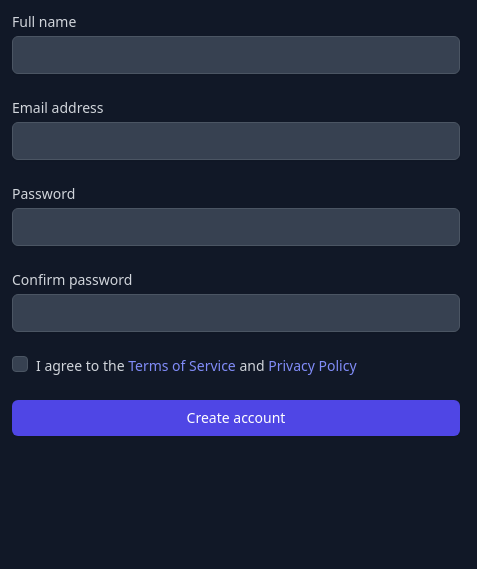
Test: RegisterForm › Form Validation › clears errors when input becomes valid
First trigger errors
Submit the form
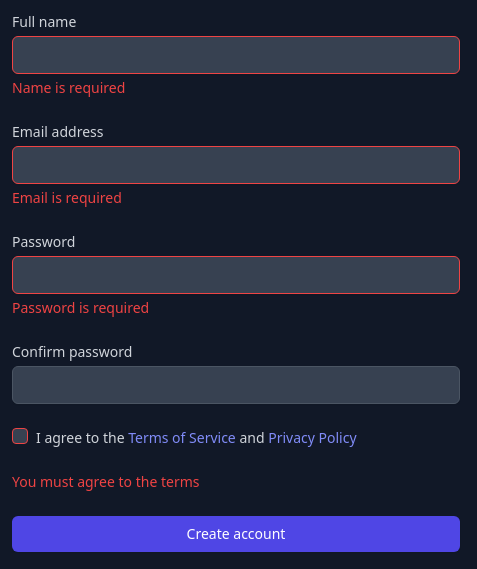
Expected: the text "Name is required" is shown, [12,78,125,97]
Then fix the error
Type "John Doe" into the field with id "name" at [236, 55], box [12,36,460,74]
Type "john@example.com" into the field with id "email" at [236, 165], box [12,146,460,184]
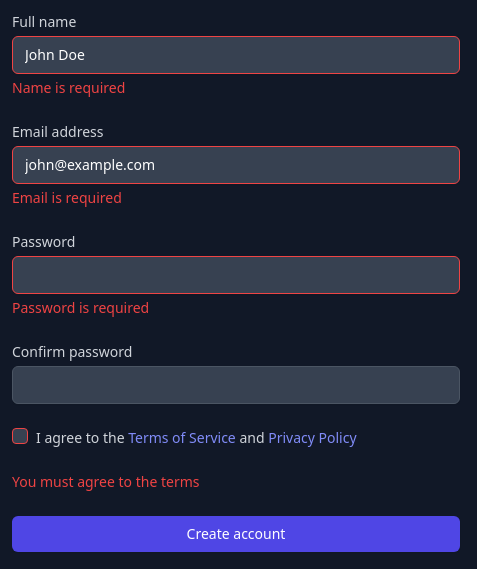
Type "ValidPass123" into the password field labelled "Password" at [236, 275], box [12,256,460,294]
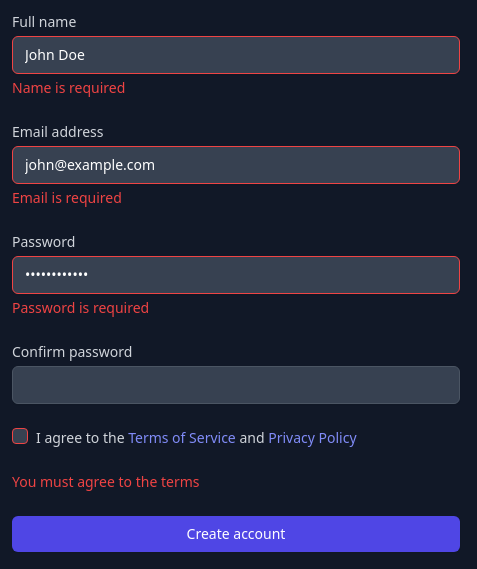
Type "ValidPass123" into the password field with id "confirmPassword" at [236, 385], box [12,366,460,404]
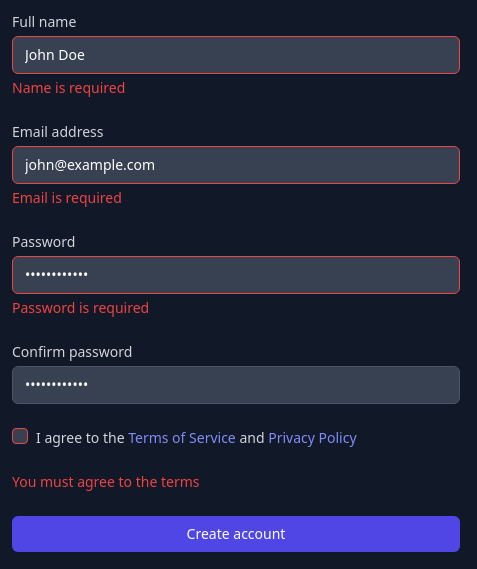
Click the checkbox with id "terms" at [20, 436], box [12,428,28,444]
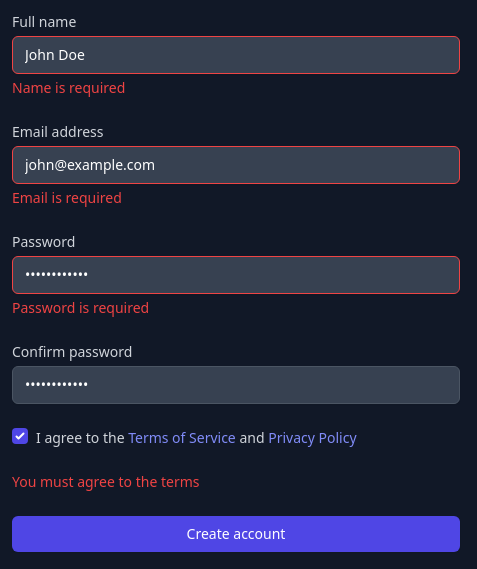
Submit the form
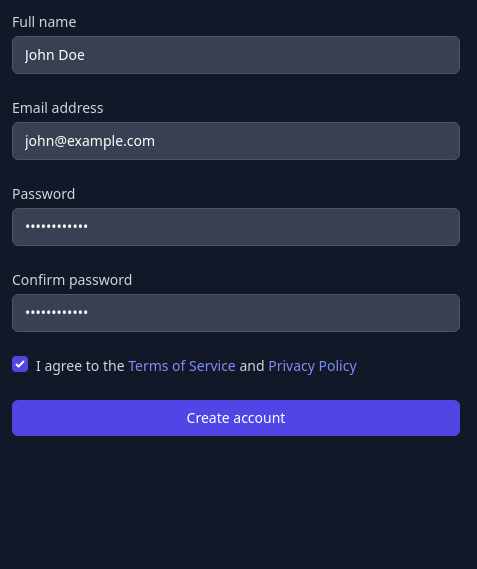
Expected: the text "Name is required" is gone
